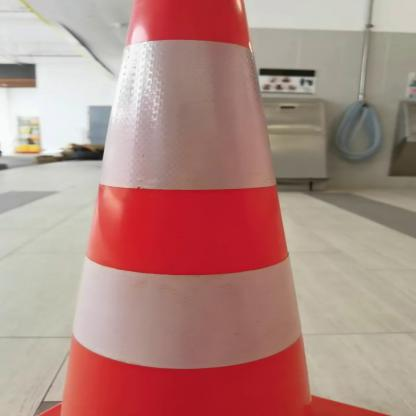cone: (29, 2, 395, 416)
